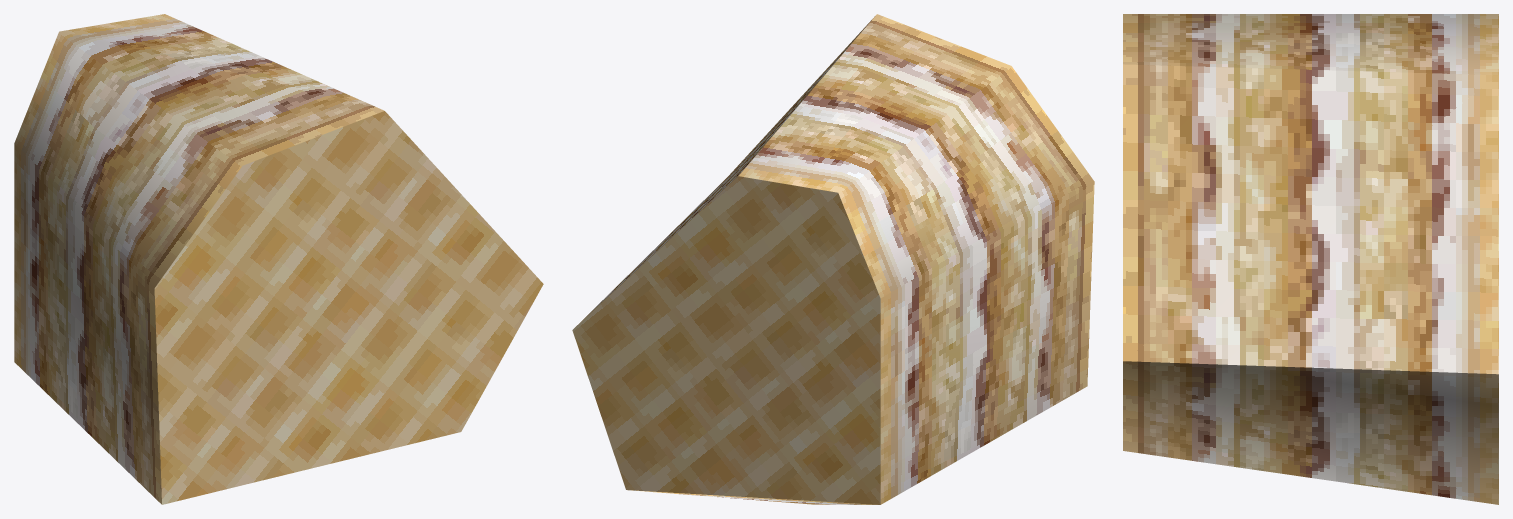
File: stg200_obj_wafer_bp2.obj
3 renders of one model, left to right at view 1: azimuth 30°, elevation 25°; view 2: azimuth 150°, elevation 25°; view 3: azimuth 270°, elevation 25°, orthographic. The views are drawn at different scales.
Visible parts, largest first — view 1: polygon0, polygon1; view 2: polygon1, polygon0; view 3: polygon1.
Part boxes in pixels (x1,y1,x2,y2): polygon0: (154,111,543,504); polygon1: (14,14,384,504); polygon1: (574,14,1094,504); polygon0: (572,176,880,504); polygon1: (1123,14,1498,504).
Size of the model in its own units: 6.92 by 6.93 by 5.65.
2 materials, 2 textured.
